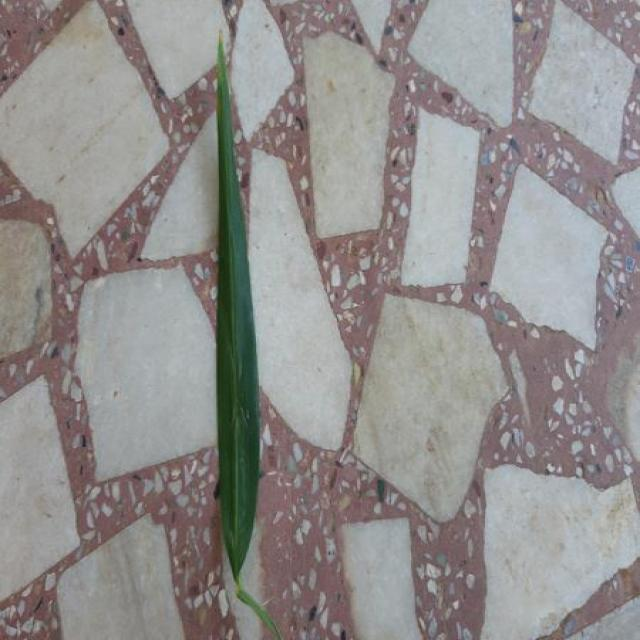ginger: (217, 36, 282, 639)
